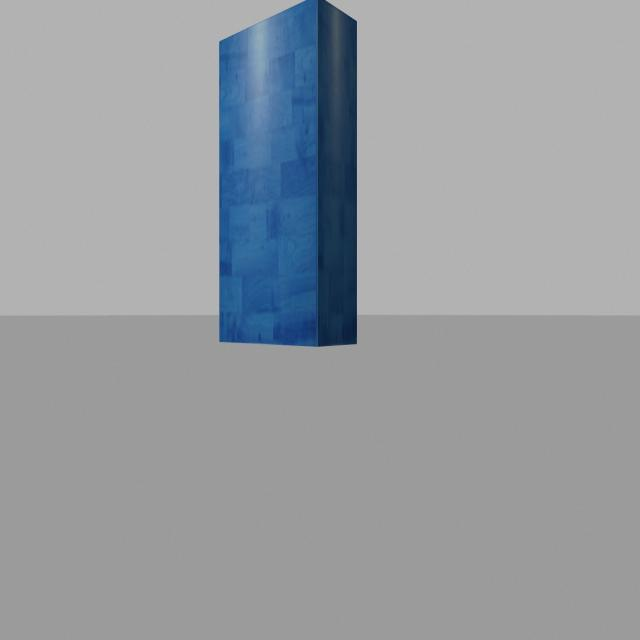shelf: (203, 0, 365, 356)
